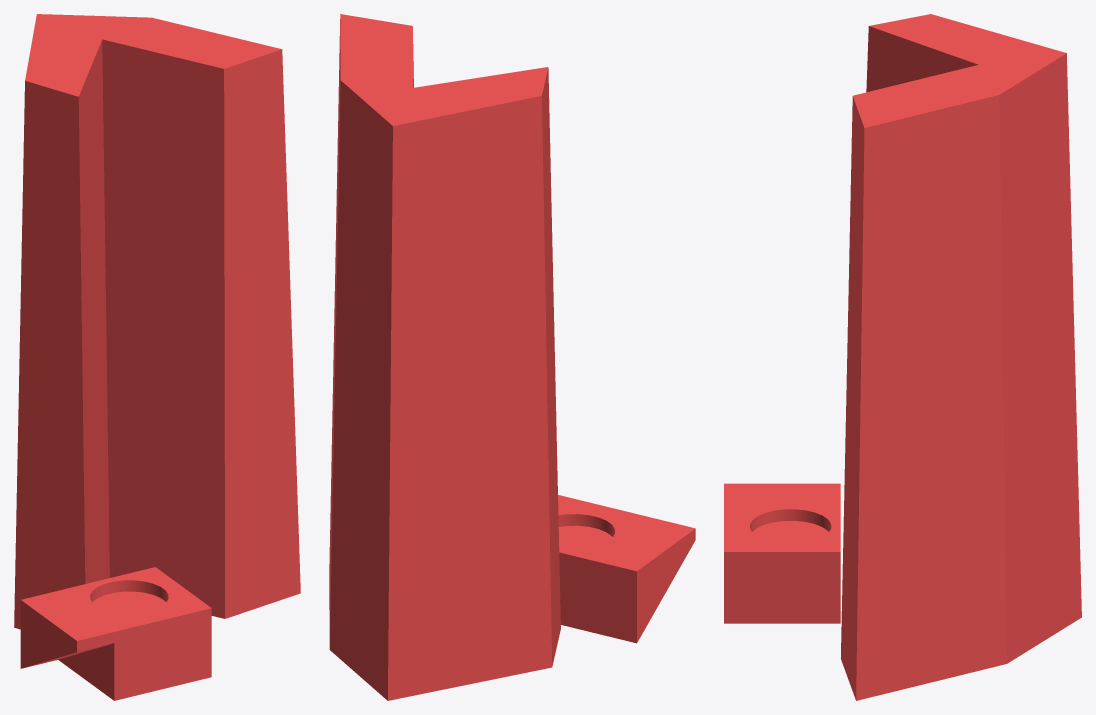
The model's file is testmodel3.dae.
The picture shows the model from 3 angles, left to right: view 1: azimuth 30°, elevation 25°; view 2: azimuth 150°, elevation 25°; view 3: azimuth 270°, elevation 25°; orthographic projection. The views are drawn at different scales.
Visible parts, largest first — view 1: Obj_000001 (×13), SketchUp (×5); view 2: Obj_000001 (×9), SketchUp (×4); view 3: Obj_000001 (×10), SketchUp (×3).
Boxes of the visible parts, x1,y1,x2,y2 form: Obj_000001 (×13): (14,14,300,629); SketchUp (×5): (20,567,211,700); Obj_000001 (×9): (329,14,560,700); SketchUp (×4): (558,495,695,643); Obj_000001 (×10): (841,14,1081,700); SketchUp (×3): (724,483,840,623).
Bounding box in the file's own units: 168 × 175 × 305.
